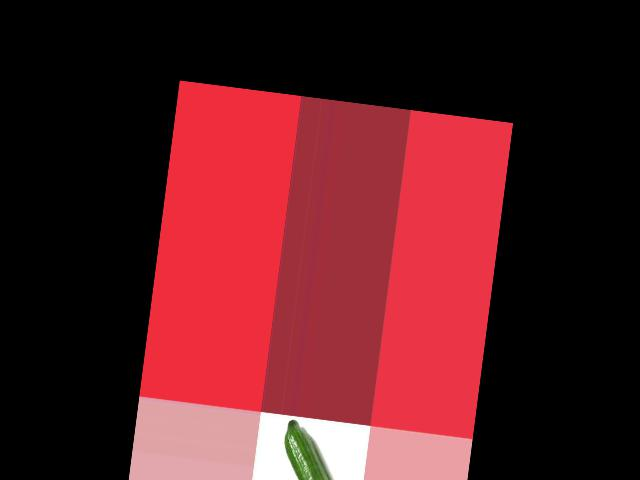cucumber: (277, 419, 345, 480)
